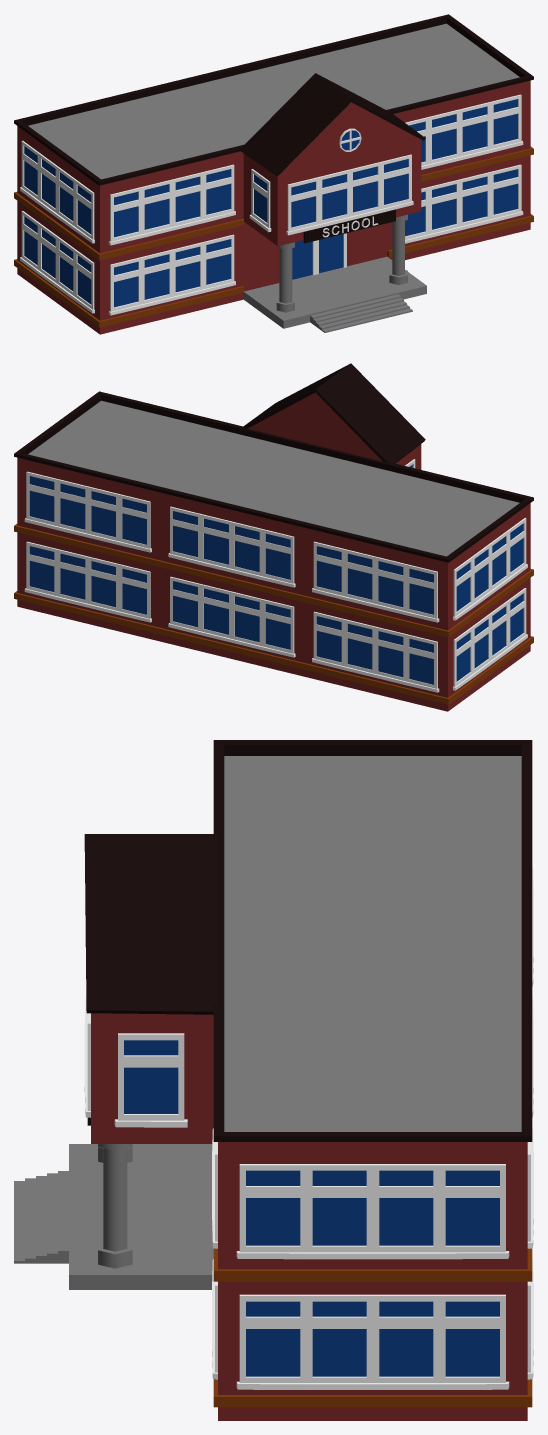
File: School.FBX
The picture shows the model from 3 angles, top to bottom: view 1: azimuth 30°, elevation 25°; view 2: azimuth 150°, elevation 25°; view 3: azimuth 270°, elevation 25°; orthographic projection. The views are drawn at different scales.
Visible parts, largest first — view 1: School; view 2: School; view 3: School.
Part boxes in pixels (left/top/right/bottom): School: left=14, top=14, right=533, bottom=334; School: left=14, top=363, right=533, bottom=711; School: left=14, top=740, right=533, bottom=1420.
Bounding box in the file's own units: 929 × 425 × 513.
